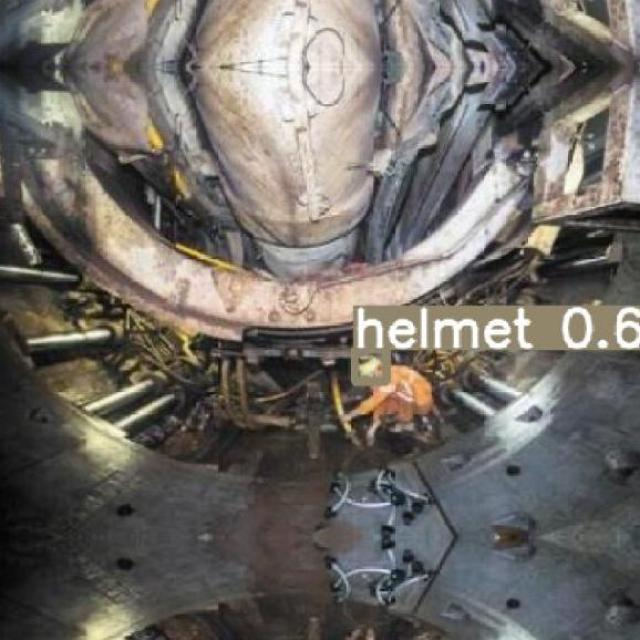yellow helmet: (357, 353, 386, 384)
